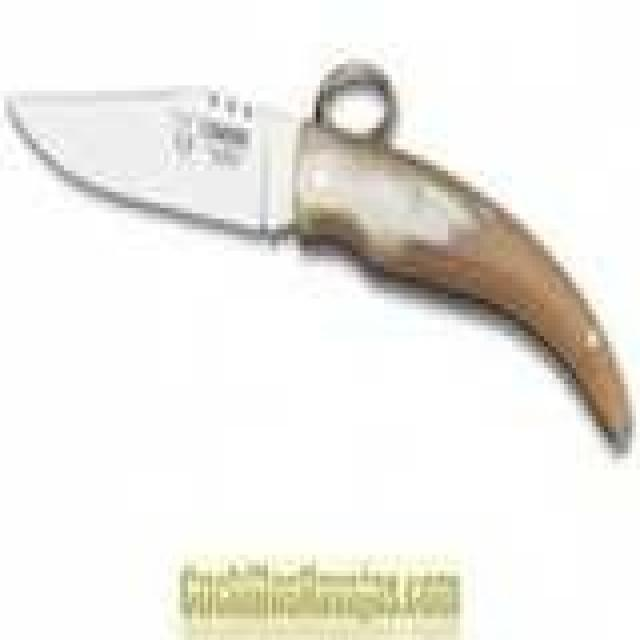knife: (0, 58, 638, 475)
